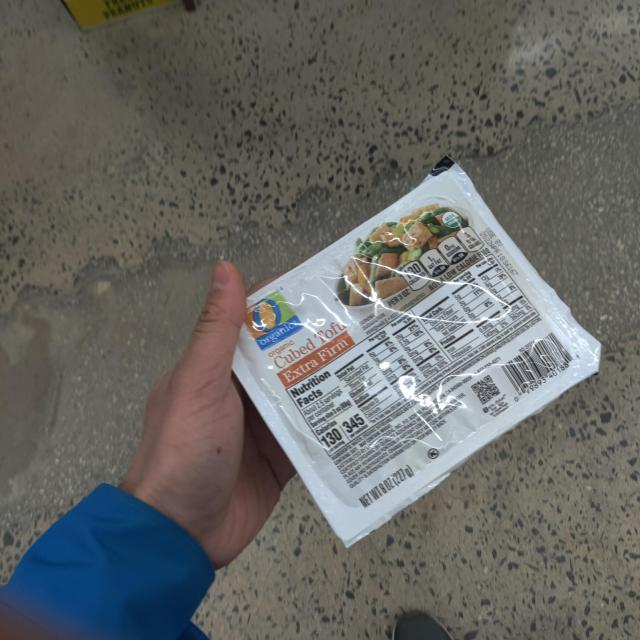Tofu: (212, 146, 624, 558)
